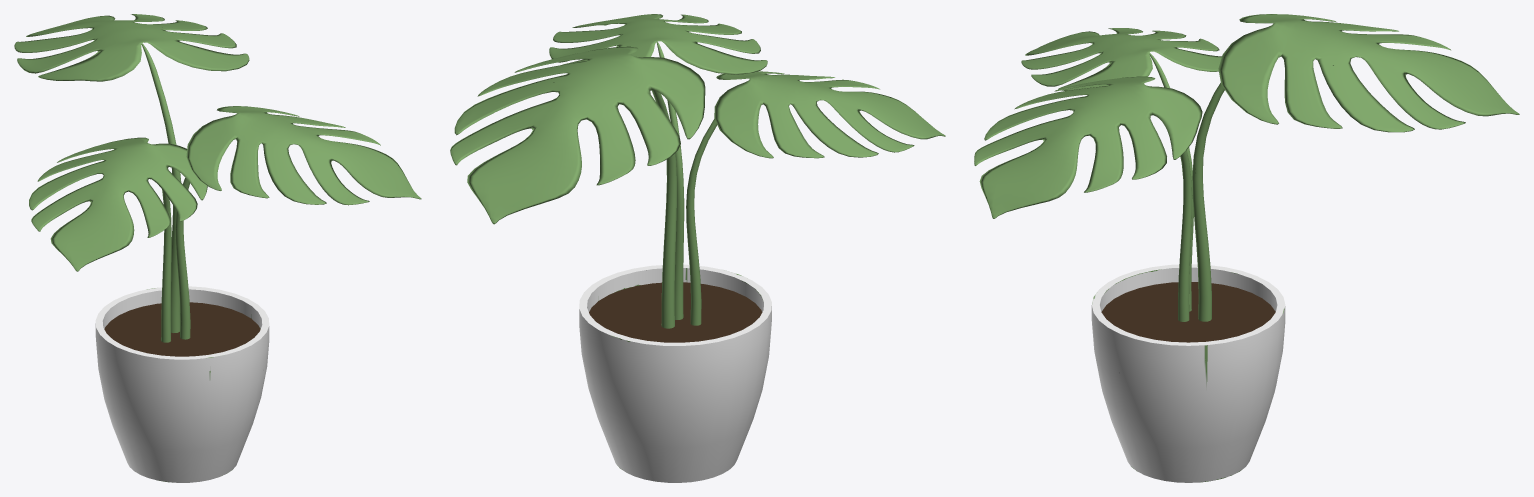
The model's file is Planta grande.fbx.
The picture shows the model from 3 angles, left to right: view 1: azimuth 30°, elevation 25°; view 2: azimuth 150°, elevation 25°; view 3: azimuth 270°, elevation 25°; orthographic projection. The views are drawn at different scales.
Visible parts, largest first — view 1: Cilindro.004; view 2: Cilindro.004; view 3: Cilindro.004.
Boxes of the visible parts, <box> form: Cilindro.004: <box>14,14,421,482</box>; Cilindro.004: <box>450,14,945,482</box>; Cilindro.004: <box>974,14,1519,482</box>.
Bounding box in the file's own units: 110 × 124 × 141.
